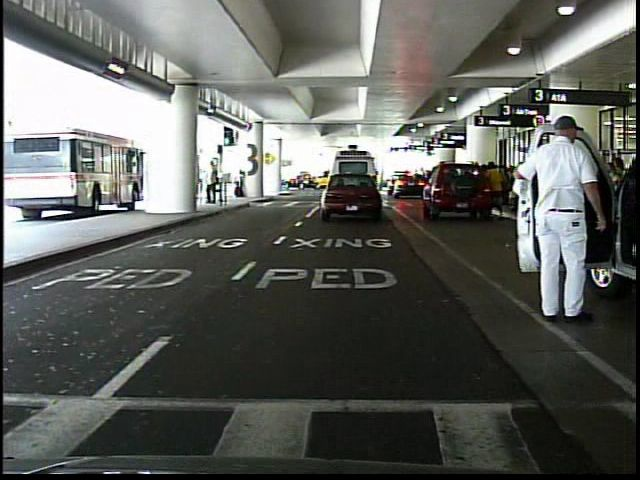person: (510, 109, 608, 323), (566, 149, 597, 225), (488, 156, 507, 220), (204, 155, 221, 207), (233, 164, 249, 200)
